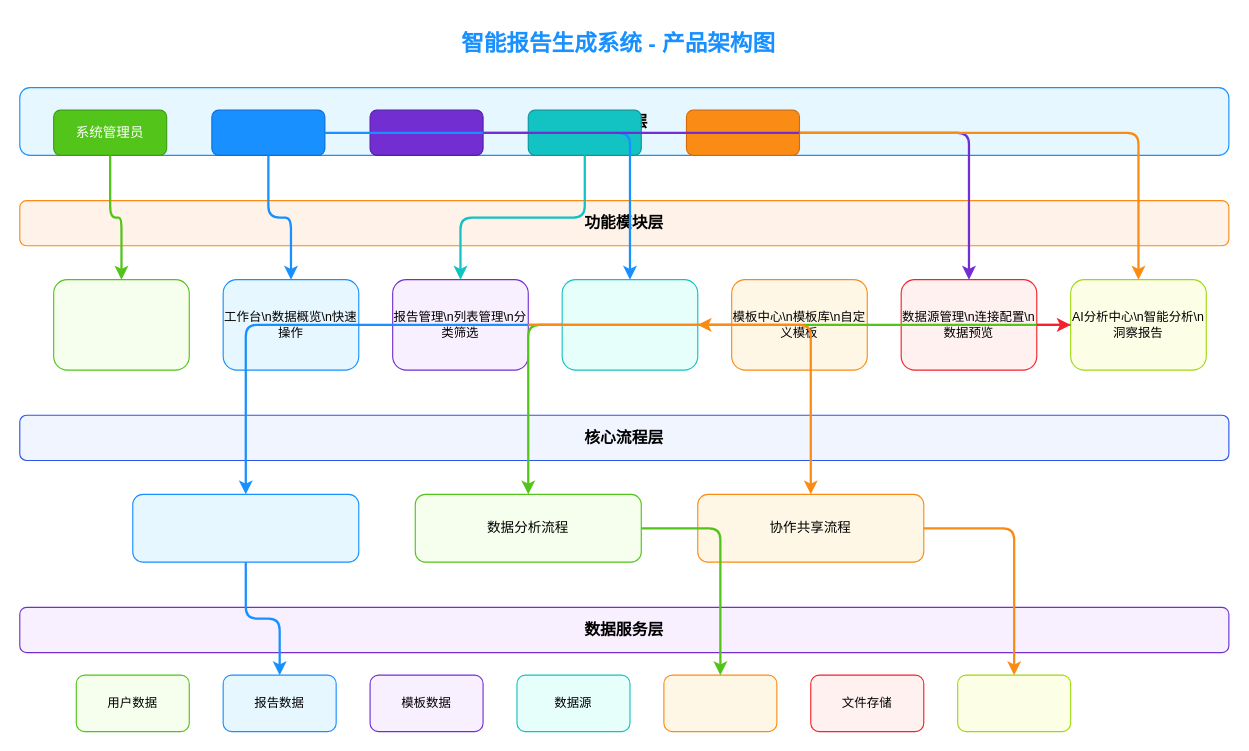
This 1249x751 diagram has some shape labels left out. The shapes that lost their labels are listed below. From the top down, each one's centre as x and y in pixels, then its label:
At point 268,132: "业务分析师".
At point 426,132: "数据运维员".
At point 584,132: "普通用户".
At point 742,132: "管理决策层".
At point 121,324: "用户认证\n登录注册".
At point 629,324: "报告编辑器\n富文本编辑\nAI辅助".
At point 245,527: "报告创建流程".
At point 720,703: "AI分析".
At point 1014,703: "实时同步".
